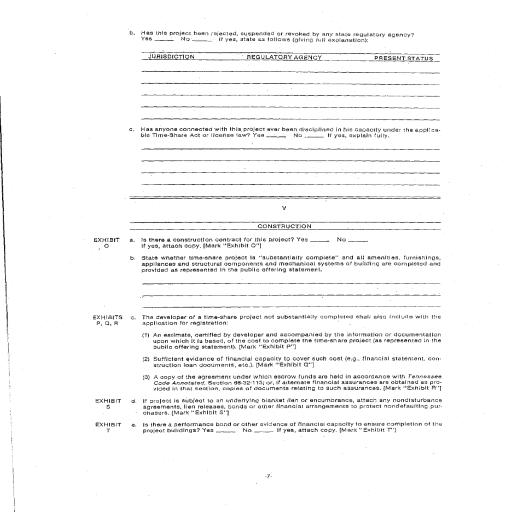check_box: (295, 232, 371, 244), (200, 426, 276, 436), (252, 132, 327, 140), (142, 36, 213, 43)
free_text: (142, 252, 444, 276)
